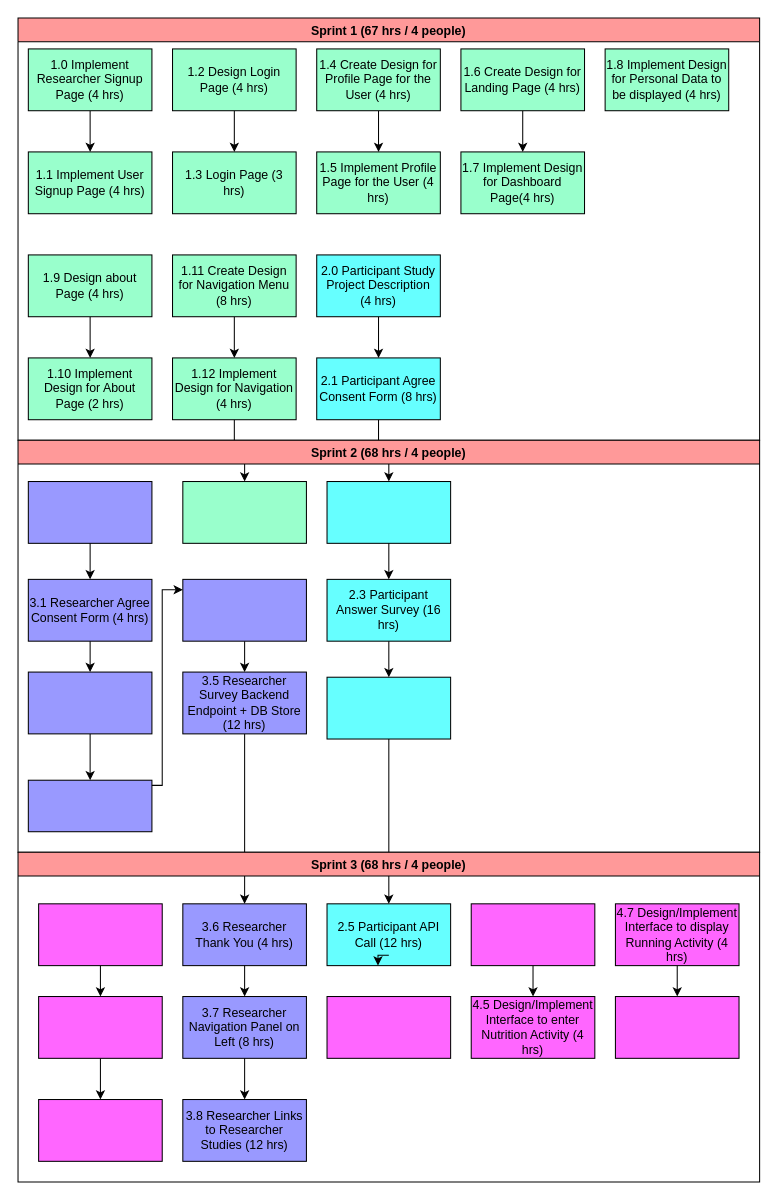
The diagram is 778 pixels wide and 1200 high, and some of its shapes have lost their labels. Each missing label, with the box of its shape:
1.13 Create API Calls (8 hrs): (182, 480, 306, 543)
2.2 Participant Answer Demographic Questions (8 hrs): (326, 480, 451, 543)
2.3 Researcher Answer Survey (12 hrs): (27, 779, 152, 832)
2.4 Participant Thank You (4 hrs): (326, 676, 451, 739)
3.0 Researcher Study Project Description (8 hrs): (27, 480, 152, 543)
3.2 Researcher Answer Demographic Questions (12 hrs): (27, 671, 152, 734)
3.4 Researcher Survey API Call (12 hrs): (182, 578, 306, 641)
4.1 Design/Implement Interface to display Nutrition Activity (4 hrs): (326, 995, 451, 1058)
4.10 Design/Implement Interface to display Biking Activity (4 hrs): (38, 903, 162, 966)
4.11 Design/Implement Interface to enter Biking Activity (4 hrs): (38, 995, 162, 1058)
4.12 Design/Implement Interface to modify Biking Activity (4 hrs): (38, 1098, 162, 1161)
4.4 Design/Implement Interface to display Walking Activity (4 hrs): (470, 903, 595, 966)
4.8 Design/Implement Interface to enter Running Activity (4 hrs): (614, 995, 739, 1058)
